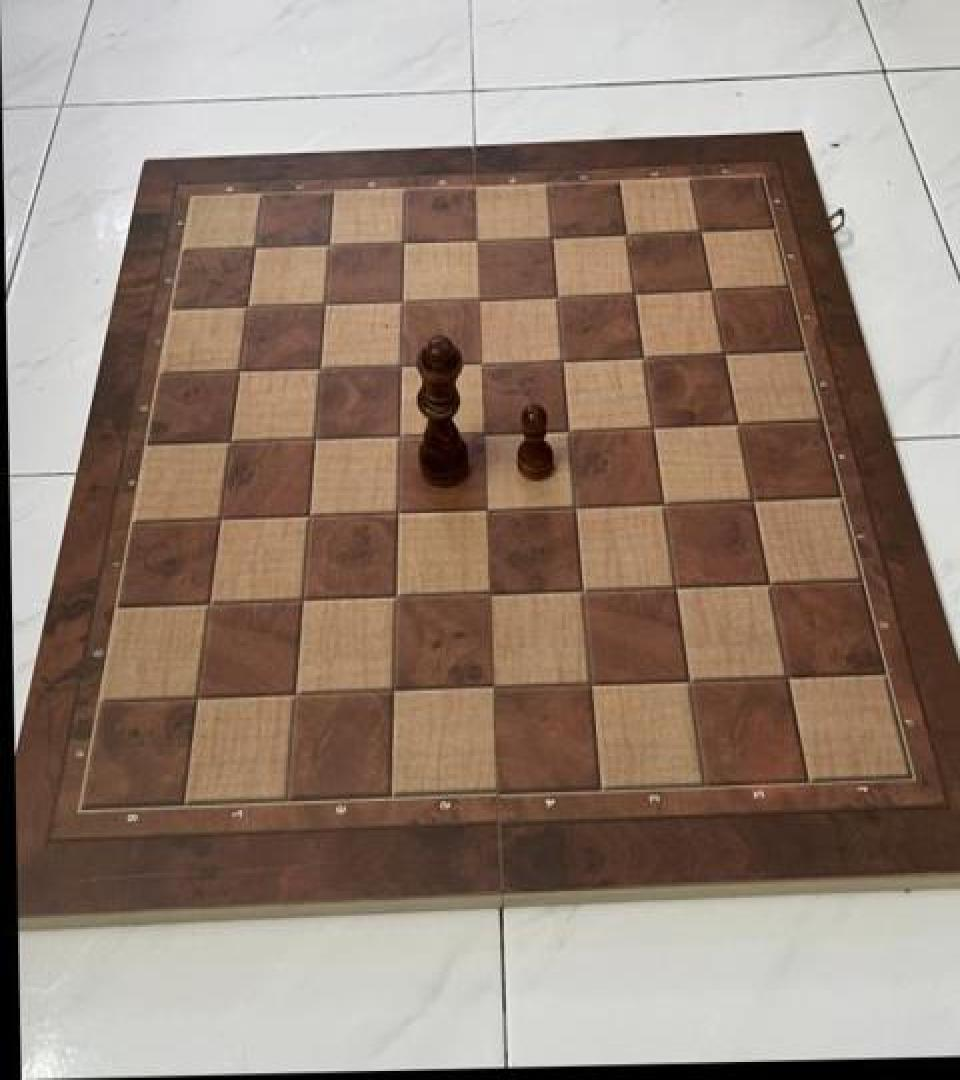xcorner: (620, 273, 654, 312), (205, 499, 239, 538), (674, 661, 708, 700), (240, 228, 274, 266), (314, 225, 348, 263), (389, 223, 423, 261), (463, 220, 497, 258), (537, 217, 571, 255), (612, 215, 646, 253), (686, 212, 720, 250), (232, 288, 266, 326), (310, 285, 344, 323), (387, 282, 421, 320), (465, 279, 499, 317), (543, 276, 577, 314), (698, 270, 732, 308), (224, 352, 258, 390), (305, 349, 339, 387), (386, 346, 420, 384), (467, 343, 501, 381), (548, 340, 582, 378), (629, 338, 663, 376), (710, 334, 744, 372), (215, 423, 249, 461), (300, 420, 334, 458), (384, 416, 418, 454), (469, 413, 503, 451), (554, 411, 588, 449), (639, 408, 673, 446), (724, 404, 758, 442), (294, 496, 328, 534), (383, 494, 417, 532), (472, 490, 506, 528), (561, 487, 595, 525), (650, 484, 684, 522), (738, 480, 772, 518), (194, 585, 228, 623), (288, 582, 322, 620), (381, 578, 415, 616), (474, 575, 508, 613), (568, 572, 602, 610), (661, 568, 695, 606), (755, 565, 789, 603), (182, 680, 216, 718), (280, 676, 314, 714), (379, 673, 413, 711), (477, 668, 511, 706), (576, 665, 610, 703), (773, 658, 807, 696)
